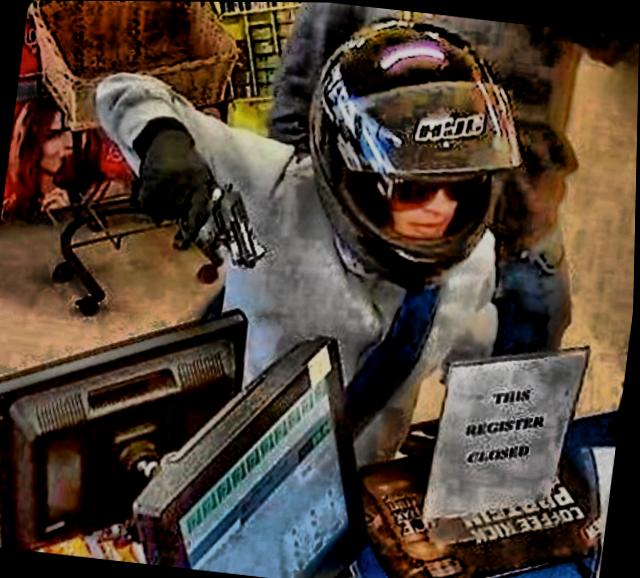pistol: (127, 171, 274, 272)
